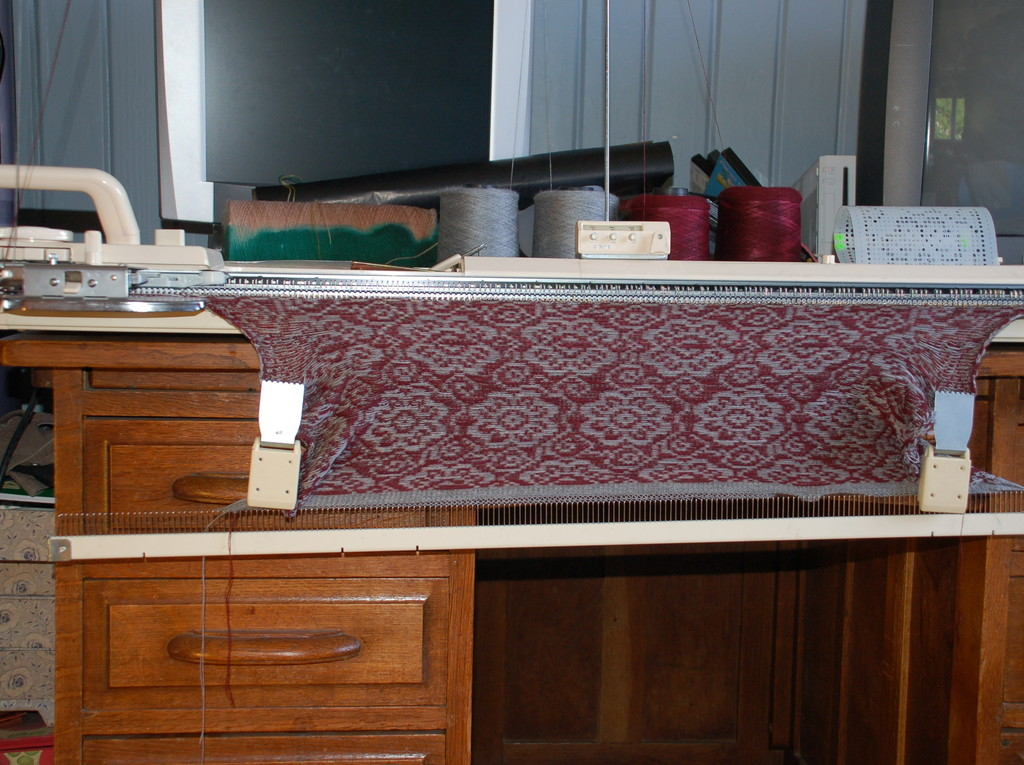Cabinetry: (83, 576, 452, 712), (84, 419, 257, 535)
